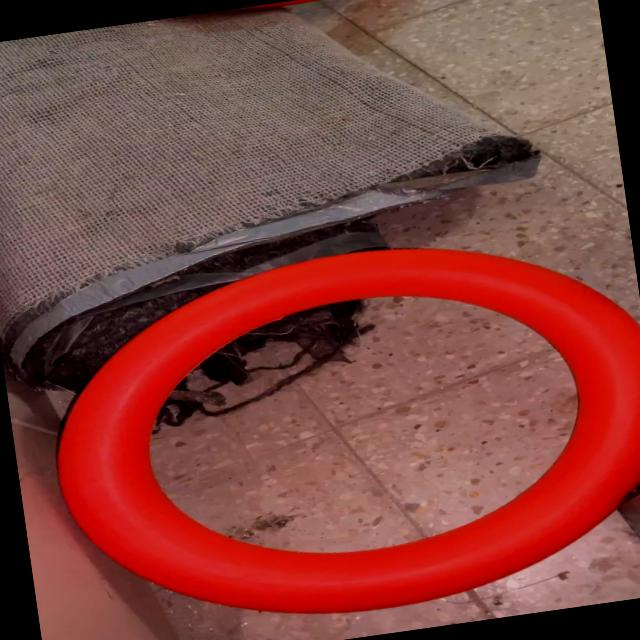note: (29, 212, 640, 640)
